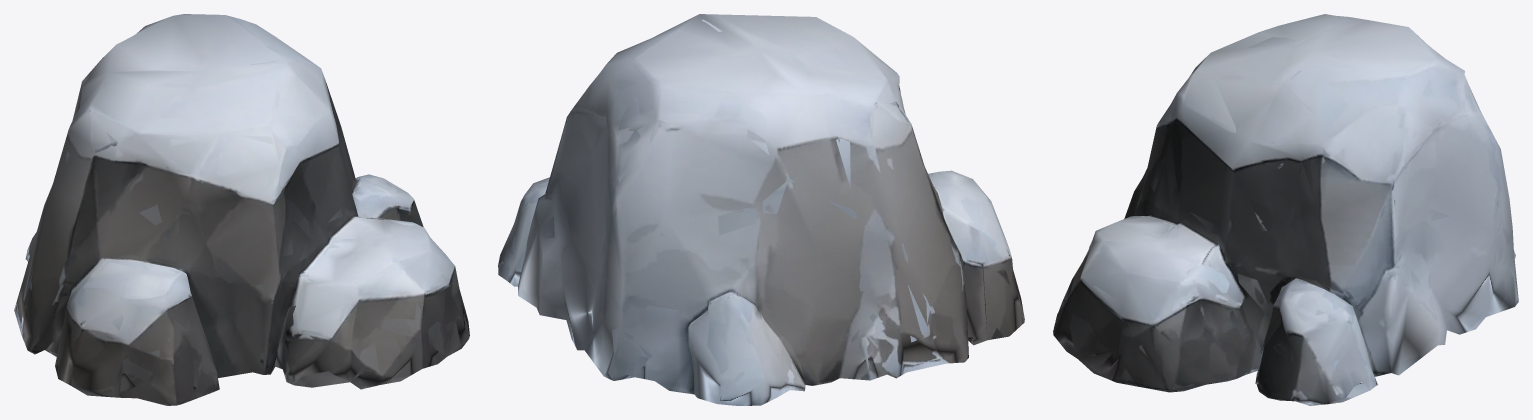
Rendered from rock_snow.glb.
The picture shows the model from 3 angles, left to right: view 1: azimuth 30°, elevation 25°; view 2: azimuth 150°, elevation 25°; view 3: azimuth 270°, elevation 25°; orthographic projection. The views are drawn at different scales.
Visible parts, largest first — view 1: BakeLow; view 2: BakeLow; view 3: BakeLow.
Boxes of the visible parts, bbox=[...] form: BakeLow: bbox=[14, 14, 469, 405]; BakeLow: bbox=[498, 14, 1024, 405]; BakeLow: bbox=[1053, 14, 1518, 405].
Size of the model in its own units: 0.9269 by 0.5422 by 0.894.
Materials: 1 (1 with a texture image).
